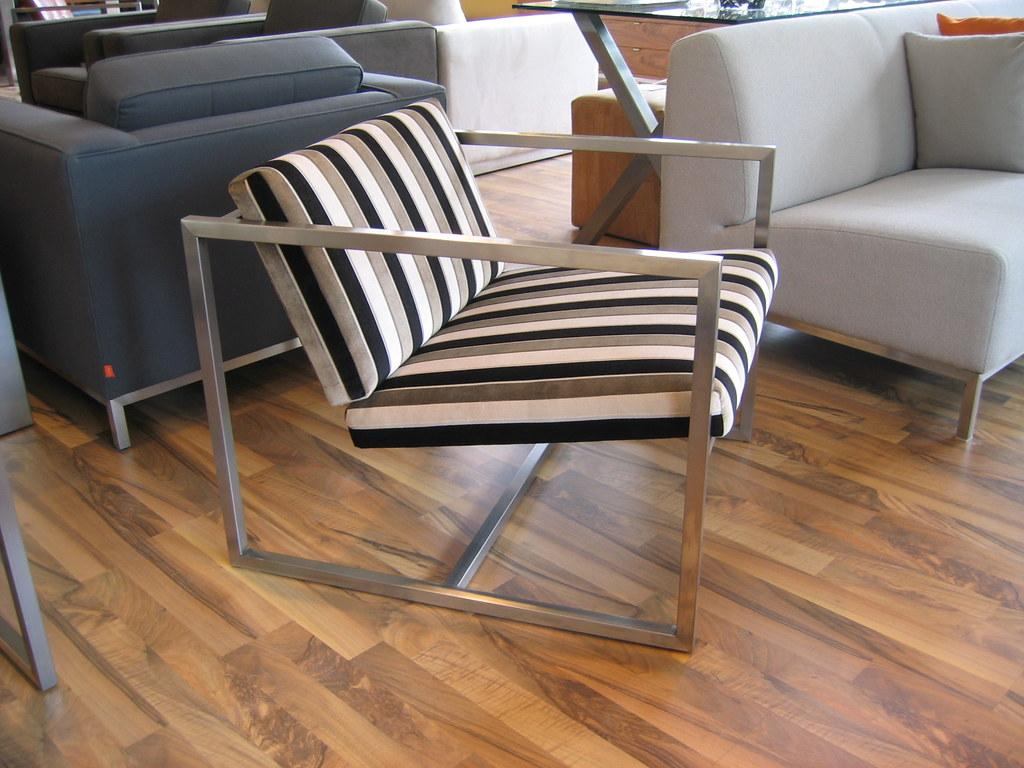chair: (180, 98, 780, 655), (1, 19, 447, 452), (660, 1, 1024, 442), (12, 1, 390, 115)
